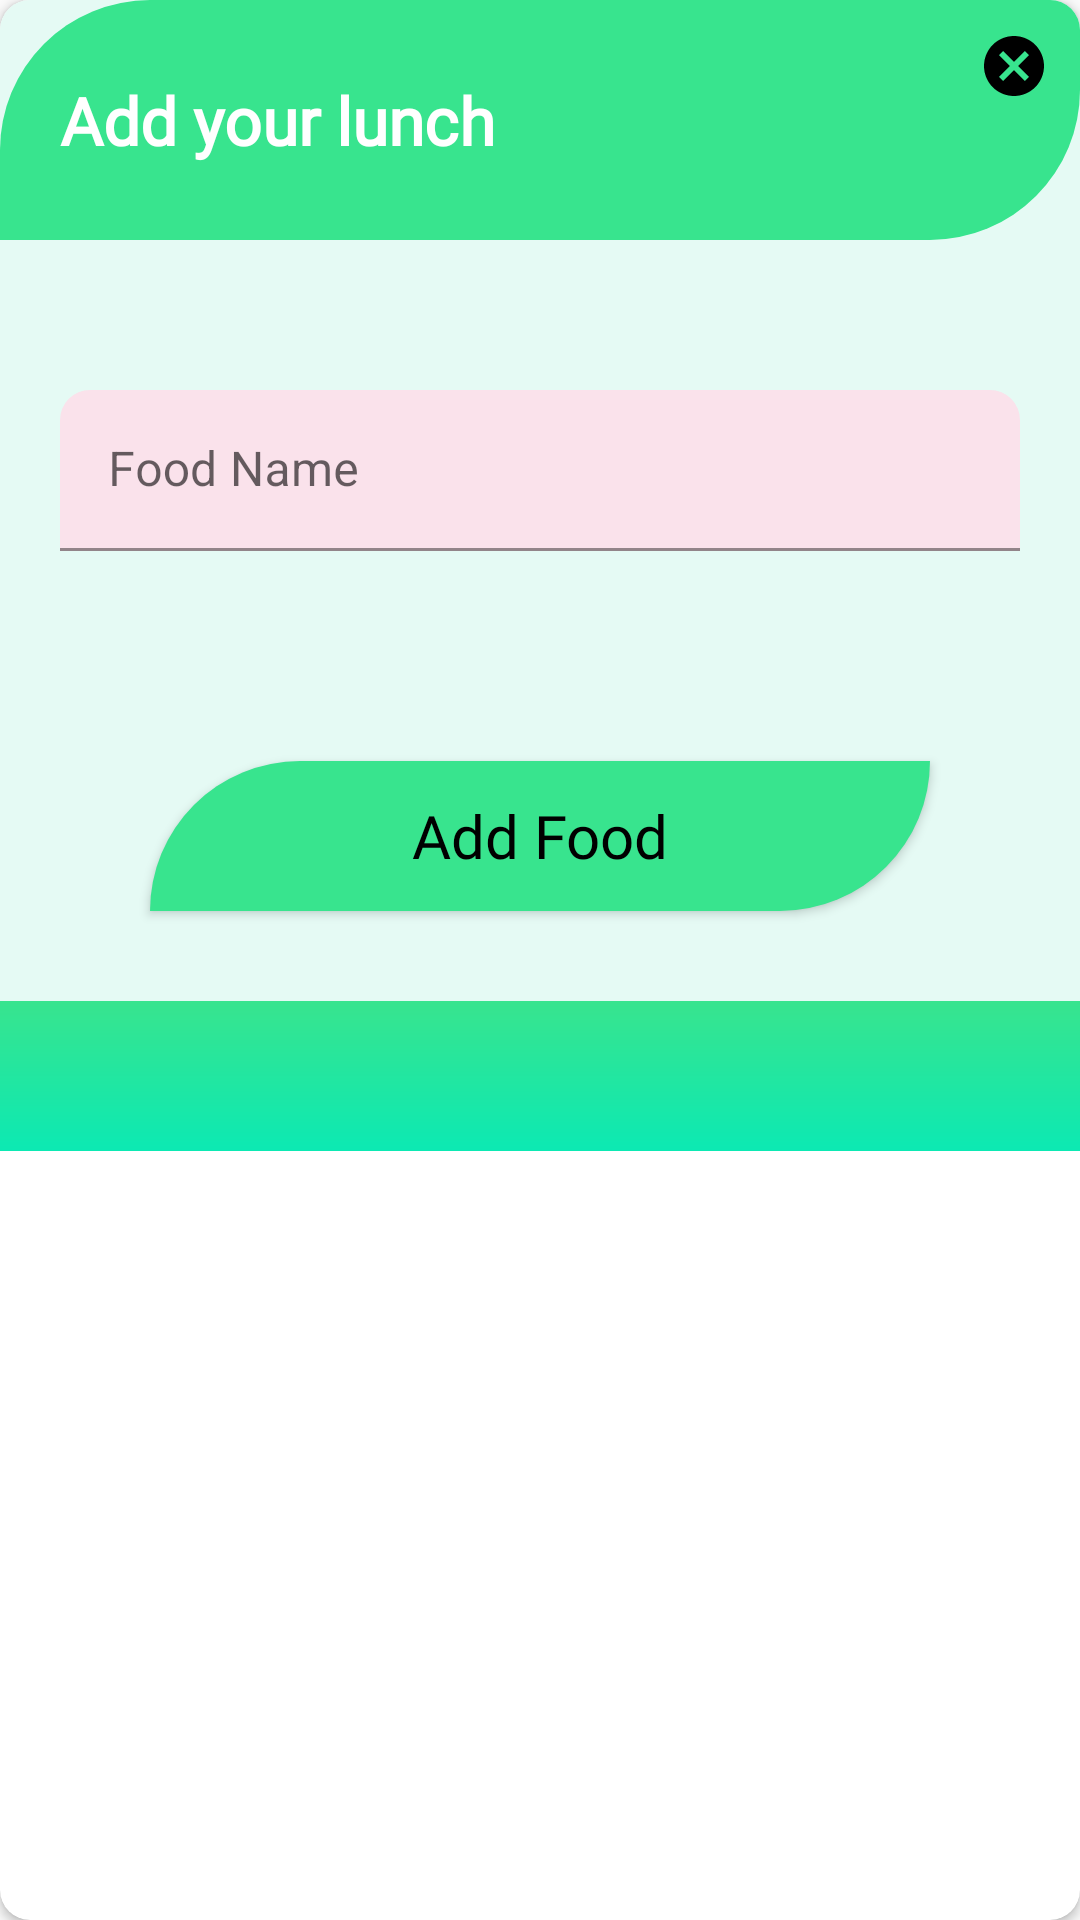

Locate icon controls on the screen. Image size 1080x1920, boxes as (x1, y1, x2, y2).
cancel: (984, 36, 1044, 96)
